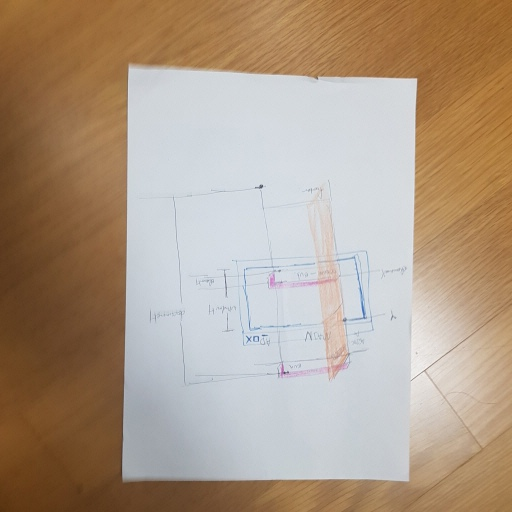Paper_2: (112, 50, 426, 488)
